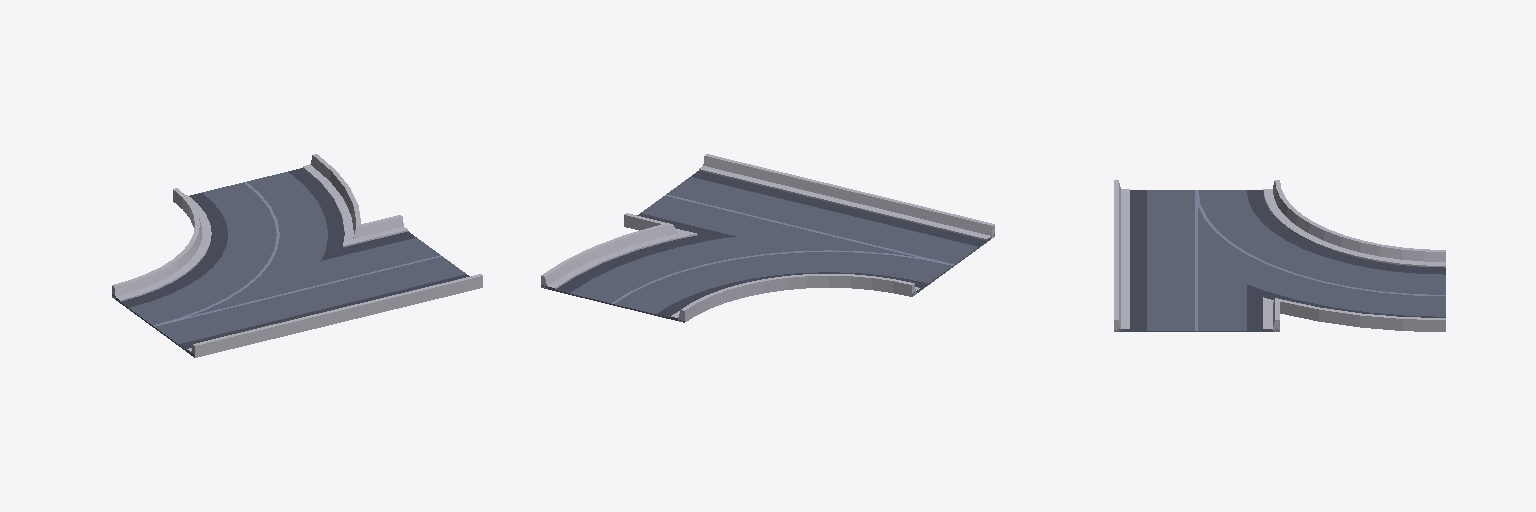
The model's file is road_curvesplitleft.obj.
3 views of the same model, side by side, from view 1: azimuth 30°, elevation 25°; view 2: azimuth 150°, elevation 25°; view 3: azimuth 270°, elevation 25° (orthographic).
Parts seen in each view (by area): view 1: road_curvestraight, road_curvestraightBarrier; view 2: road_curvestraight, road_curvestraightBarrier; view 3: road_curvestraight, road_curvestraightBarrier.
Boxes of the visible parts, <box> form: road_curvestraight: <box>112,165,482,357</box>; road_curvestraightBarrier: <box>112,154,482,356</box>; road_curvestraight: <box>541,166,994,322</box>; road_curvestraightBarrier: <box>541,154,994,321</box>; road_curvestraight: <box>1114,189,1445,331</box>; road_curvestraightBarrier: <box>1114,180,1445,331</box>.
Size of the model in its own units: 2 by 0.08 by 2.